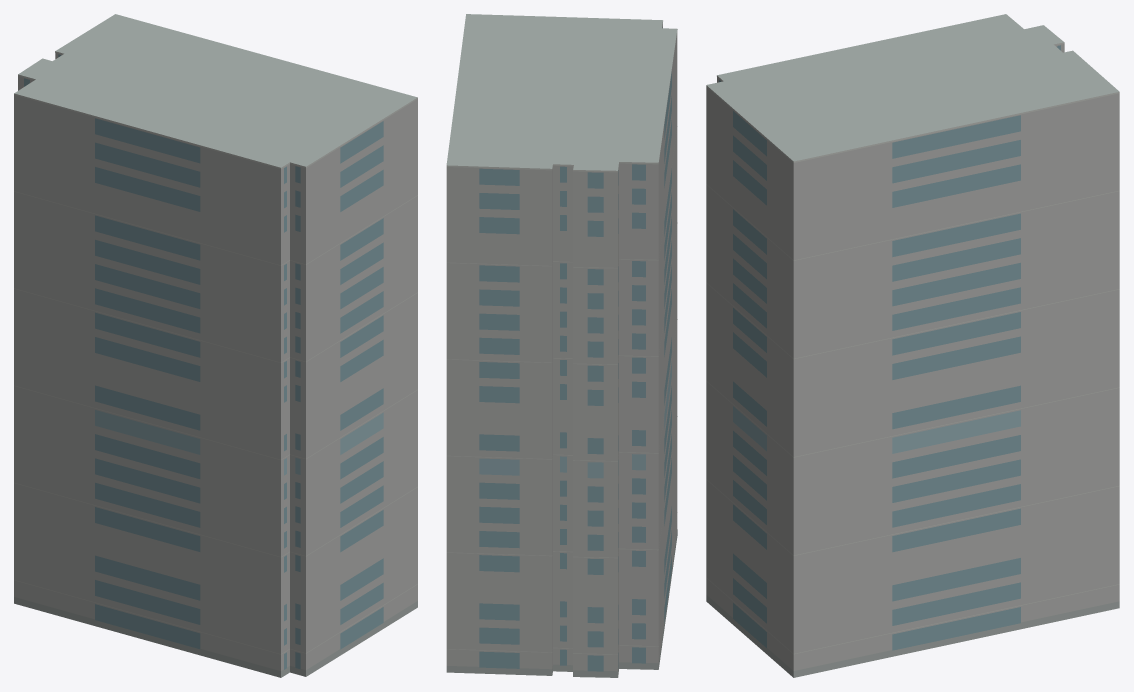
Rendered from survey-upis-32995700.glb.
The picture shows the model from 3 angles, left to right: view 1: azimuth 30°, elevation 25°; view 2: azimuth 150°, elevation 25°; view 3: azimuth 270°, elevation 25°; orthographic projection.
Visible parts, largest first — view 1: survey-upis-32995700.tmp; view 2: survey-upis-32995700.tmp; view 3: survey-upis-32995700.tmp.
Boxes of the visible parts, box(x1,y1,x2,y2) form: survey-upis-32995700.tmp: box(14, 14, 417, 677); survey-upis-32995700.tmp: box(446, 14, 677, 677); survey-upis-32995700.tmp: box(706, 14, 1119, 677).
Size of the model in its own units: 50.95 by 83.1 by 60.32.
